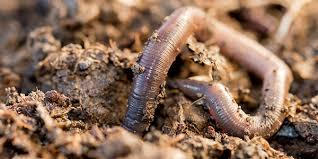insect: (121, 4, 294, 145)
